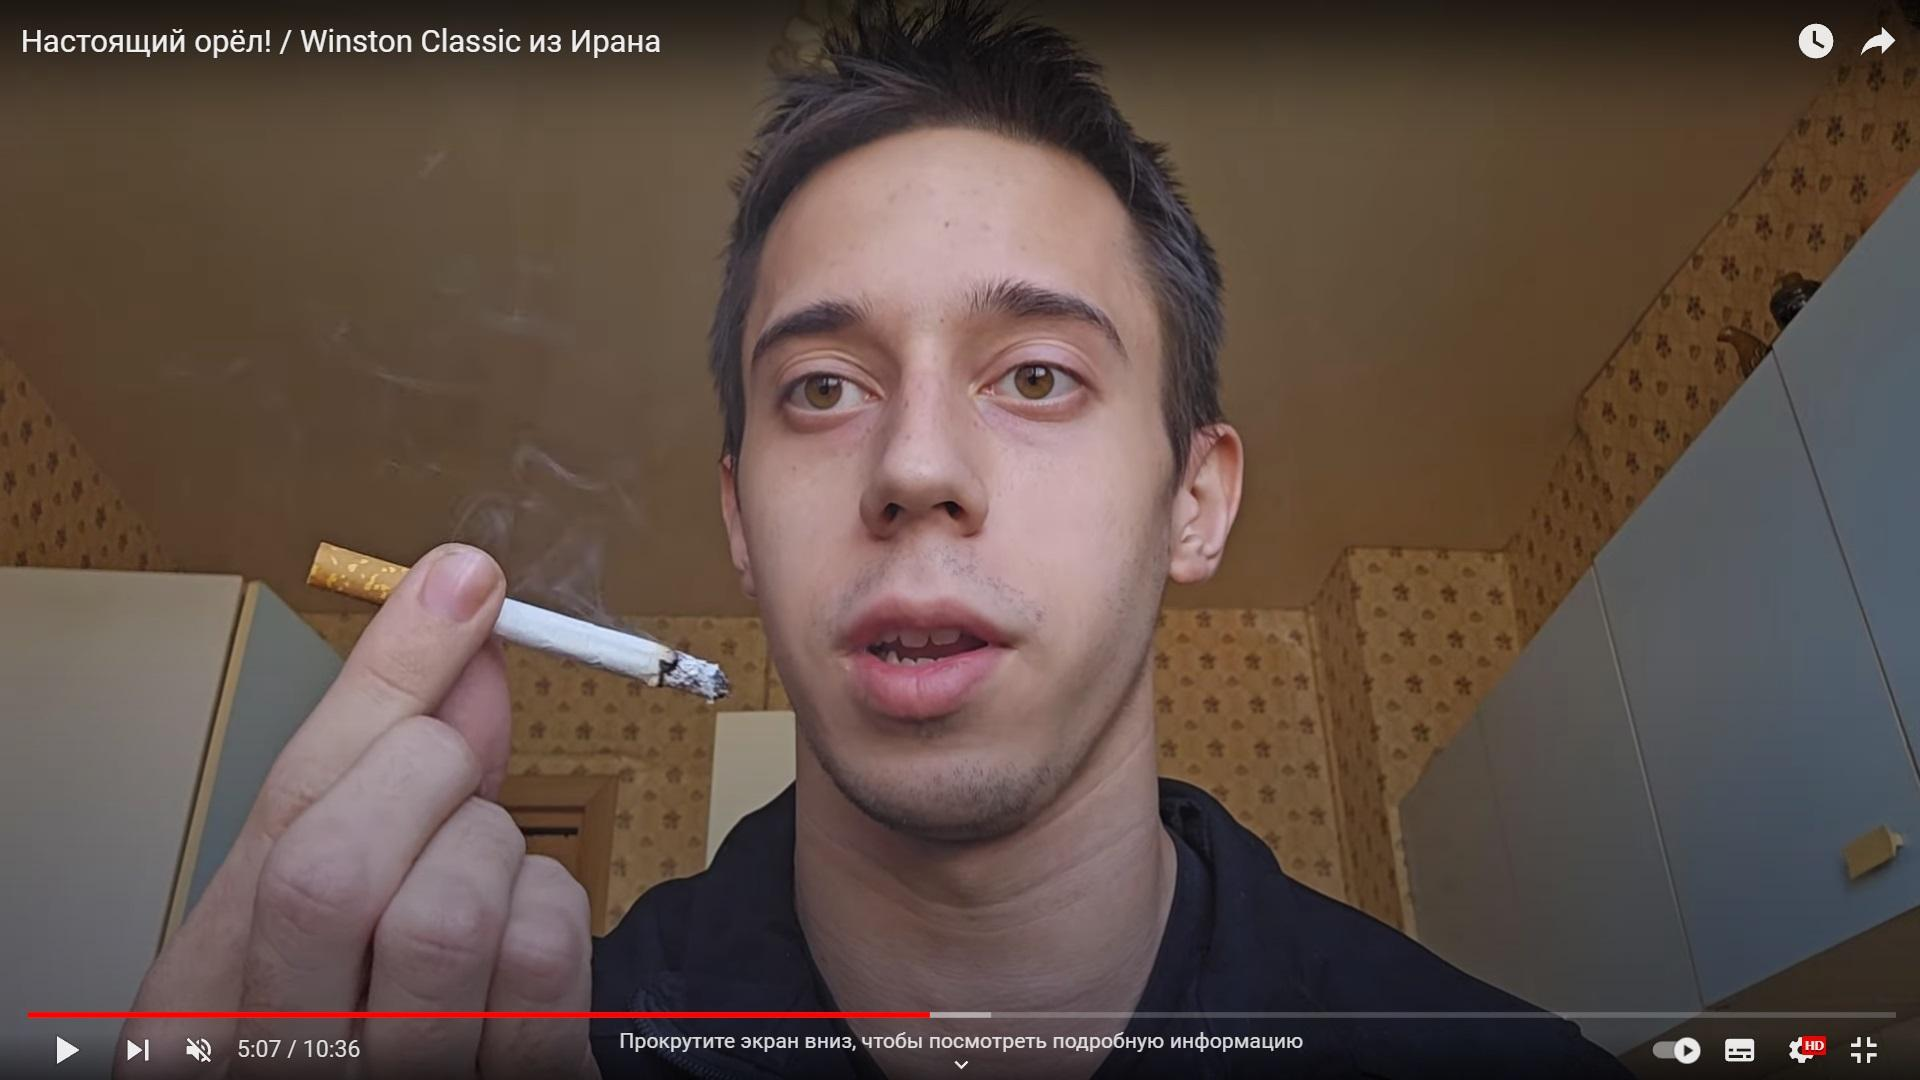cigarette: (303, 541, 732, 699)
